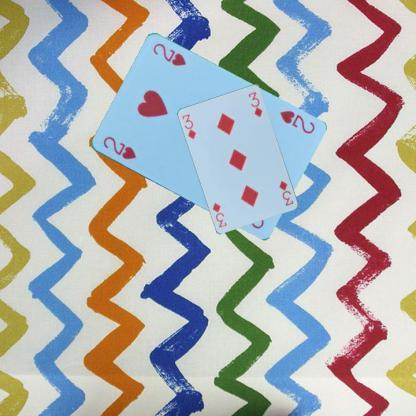2h: (276, 108, 316, 136), (100, 134, 137, 160)
3d: (276, 178, 294, 207), (180, 112, 198, 140)
